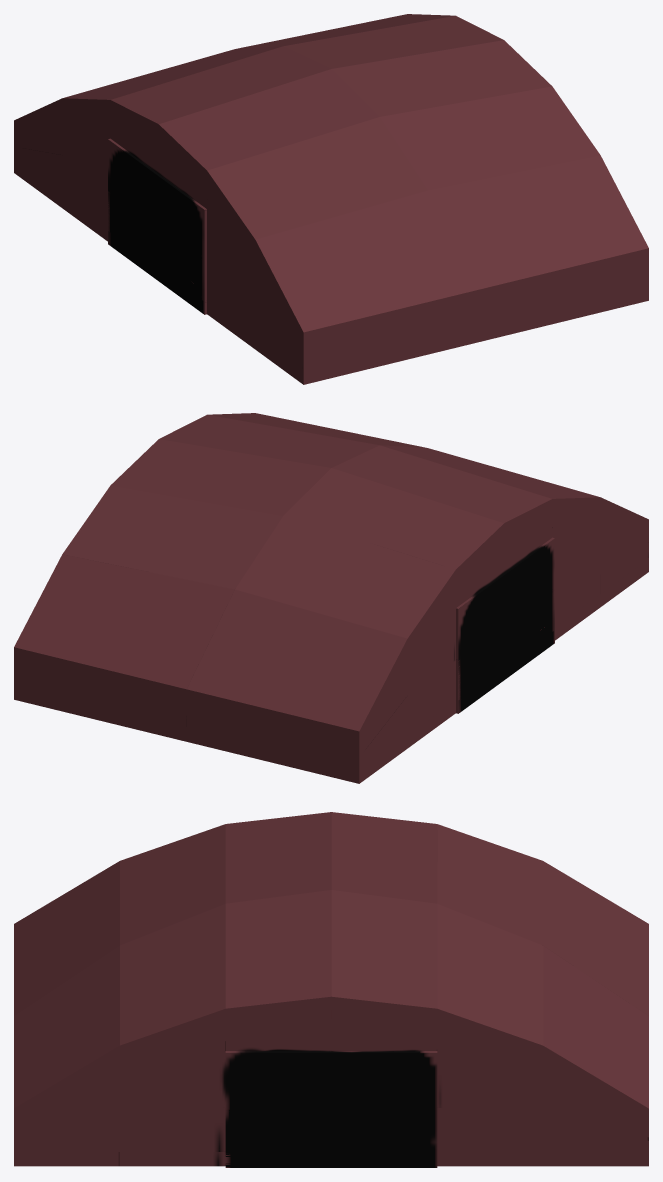
Rendered from hangar.fbx.
The picture shows the model from 3 angles, top to bottom: view 1: azimuth 30°, elevation 25°; view 2: azimuth 150°, elevation 25°; view 3: azimuth 270°, elevation 25°; orthographic projection. The views are drawn at different scales.
Visible parts, largest first — view 1: Hangar; view 2: Hangar; view 3: Hangar.
Boxes of the visible parts, x1,y1,x2,y2 form: Hangar: (14, 14, 648, 384); Hangar: (14, 413, 648, 783); Hangar: (14, 812, 648, 1167).
Size of the model in its own units: 1400 by 639 by 2000.
